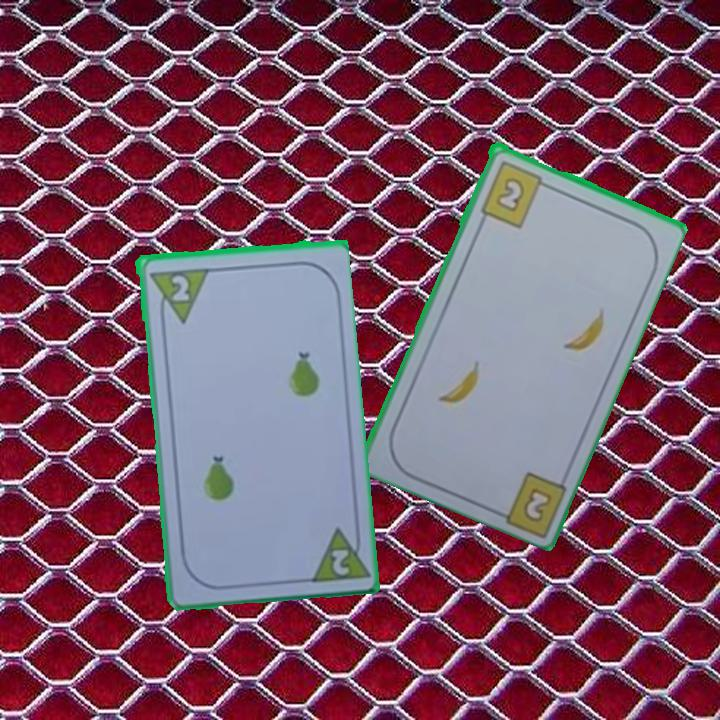2b: (476, 156, 553, 230), (519, 483, 555, 527)
2p: (145, 263, 210, 327), (327, 545, 352, 578)
